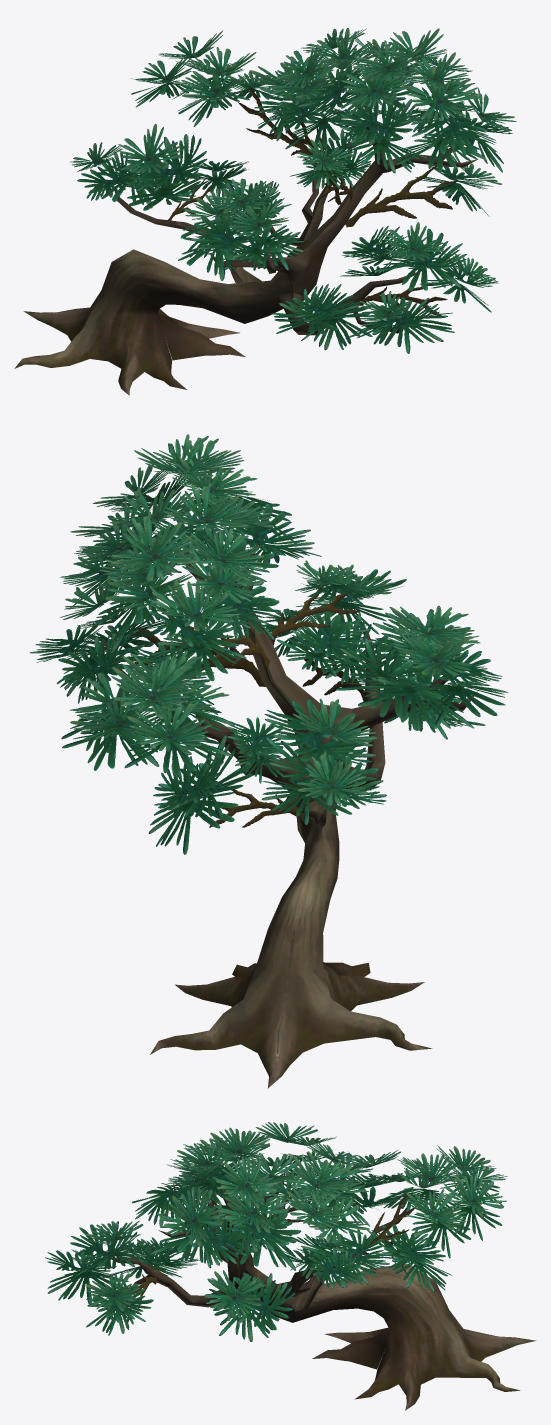
Rendered from map_111_shu_1.fbx.
3 renders of one model, top to bottom at view 1: azimuth 30°, elevation 25°; view 2: azimuth 150°, elevation 25°; view 3: azimuth 270°, elevation 25°, orthographic. The views are drawn at different scales.
Parts seen in each view (by area): view 1: map_111_shu_1; view 2: map_111_shu_1; view 3: map_111_shu_1.
Boxes of the visible parts, x1,y1,x2,y2 form: map_111_shu_1: [14, 28, 516, 395]; map_111_shu_1: [30, 434, 507, 1088]; map_111_shu_1: [45, 1122, 536, 1410].
Bounding box in the file's own units: 3.56 × 2.9 × 4.41.
